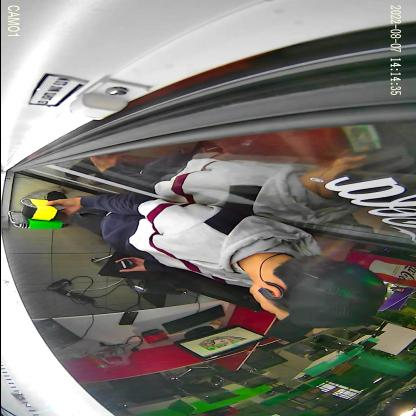green: (6, 211, 68, 229)
yellow: (18, 198, 66, 222)
